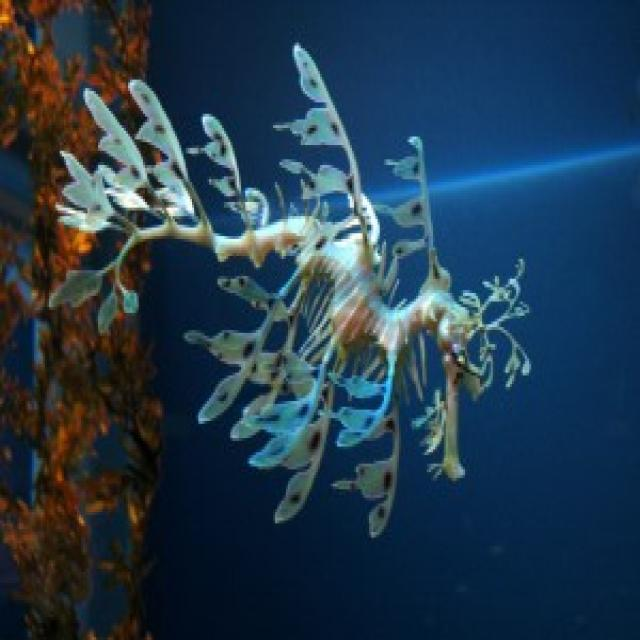Seahorse: (97, 67, 537, 547)
